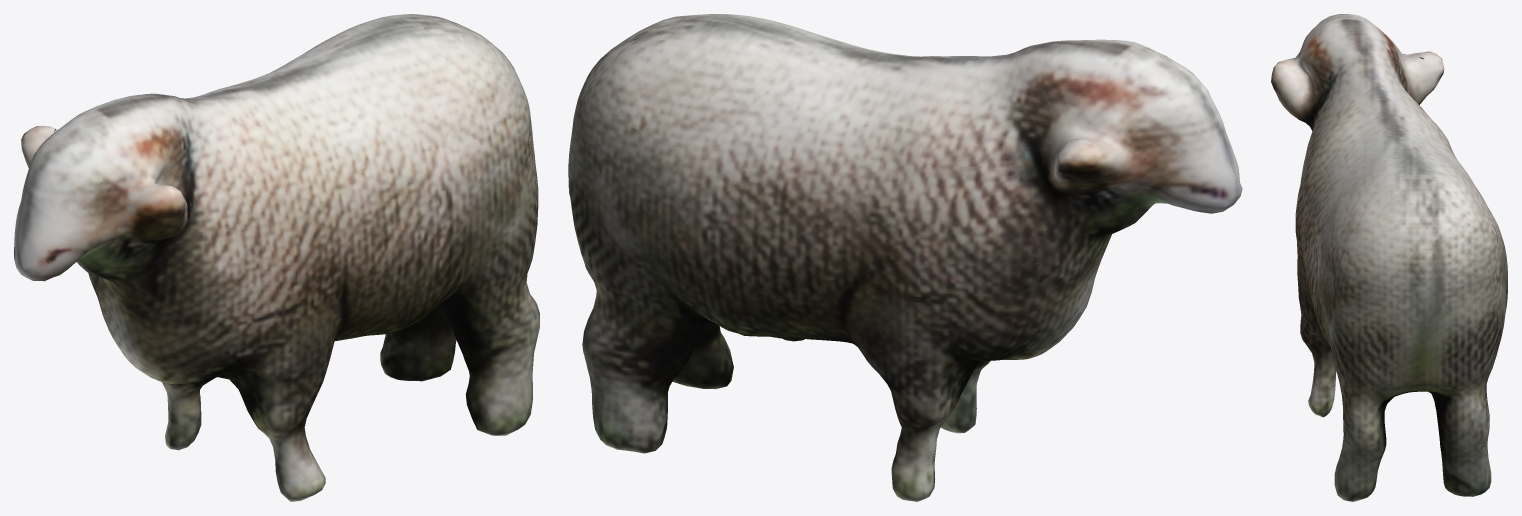
The model's file is adulto.glb.
The picture shows the model from 3 angles, left to right: view 1: azimuth 30°, elevation 25°; view 2: azimuth 150°, elevation 25°; view 3: azimuth 270°, elevation 25°; orthographic projection. The views are drawn at different scales.
Visible parts, largest first — view 1: mesh; view 2: mesh; view 3: mesh.
Part boxes in pixels (x1=…): mesh: x1=14, y1=14, x2=539, y2=501; mesh: x1=568, y1=14, x2=1242, y2=501; mesh: x1=1271, y1=14, x2=1507, y2=501.
Size of the model in its own units: 1.78 by 1.27 by 0.8379.
1 material, 1 textured.
